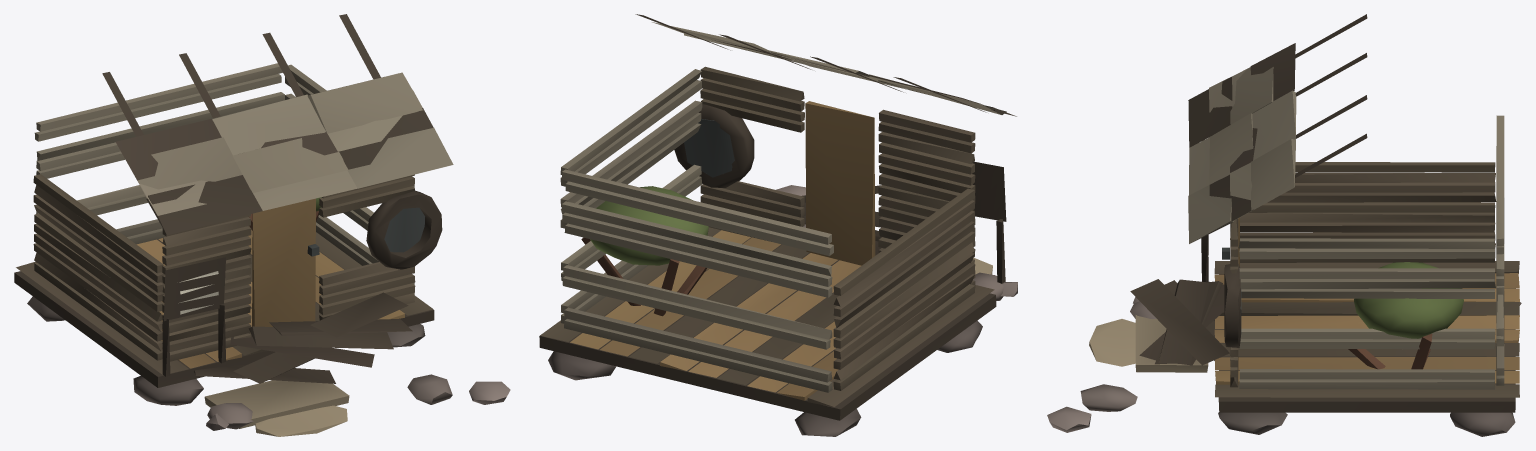
Rendered from lookout_hut_c_lod2.glb.
3 renders of one model, left to right at view 1: azimuth 30°, elevation 25°; view 2: azimuth 150°, elevation 25°; view 3: azimuth 270°, elevation 25°, orthographic. The views are drawn at different scales.
Visible parts, largest first — view 1: Surface.001; view 2: Surface.001; view 3: Surface.001.
Part boxes in pixels (left/top/right/bottom): Surface.001: left=14, top=14, right=510, bottom=436; Surface.001: left=539, top=14, right=1017, bottom=436; Surface.001: left=1047, top=14, right=1521, bottom=436.
Size of the model in its own units: 4.22 by 3.96 by 5.71.
